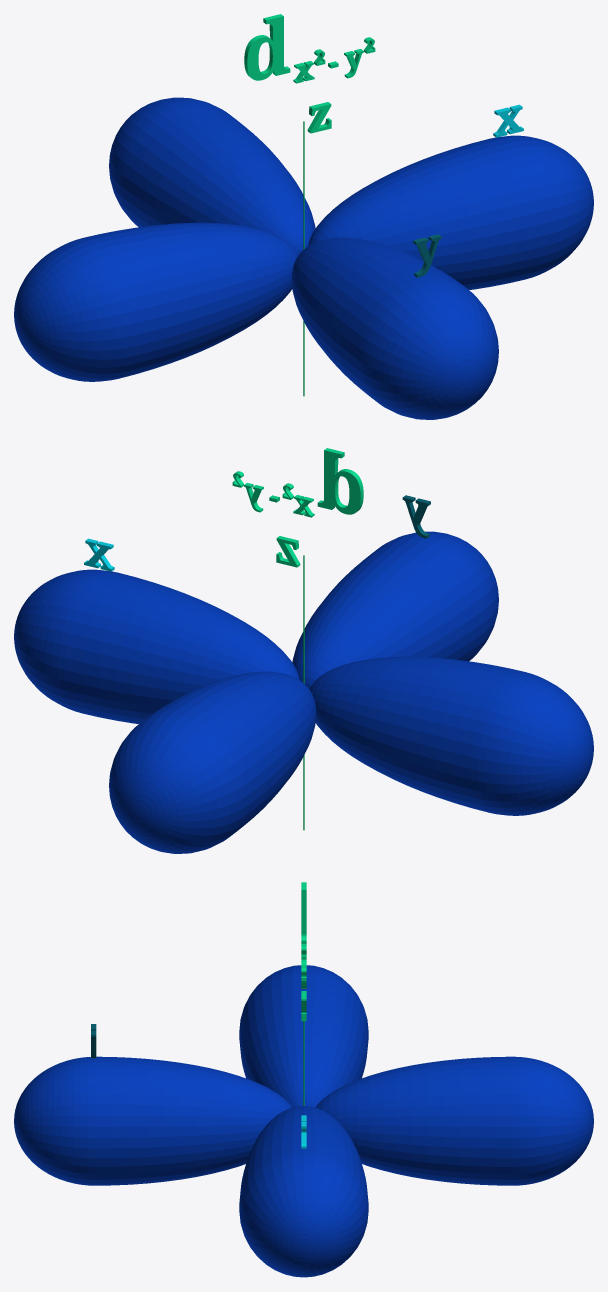
The picture shows the model from 3 angles, top to bottom: view 1: azimuth 30°, elevation 25°; view 2: azimuth 150°, elevation 25°; view 3: azimuth 270°, elevation 25°; orthographic projection. The views are drawn at different scales.
Parts seen in each view (by area): view 1: Mesh_Mesh_head_geo001_lambert2SG001; view 2: Mesh_Mesh_head_geo001_lambert2SG001; view 3: Mesh_Mesh_head_geo001_lambert2SG001.
Boxes of the visible parts, x1,y1,x2,y2 form: Mesh_Mesh_head_geo001_lambert2SG001: (14, 14, 593, 419); Mesh_Mesh_head_geo001_lambert2SG001: (14, 448, 593, 853); Mesh_Mesh_head_geo001_lambert2SG001: (14, 882, 593, 1277).
Size of the model in its own units: 108 by 70.34 by 108.
